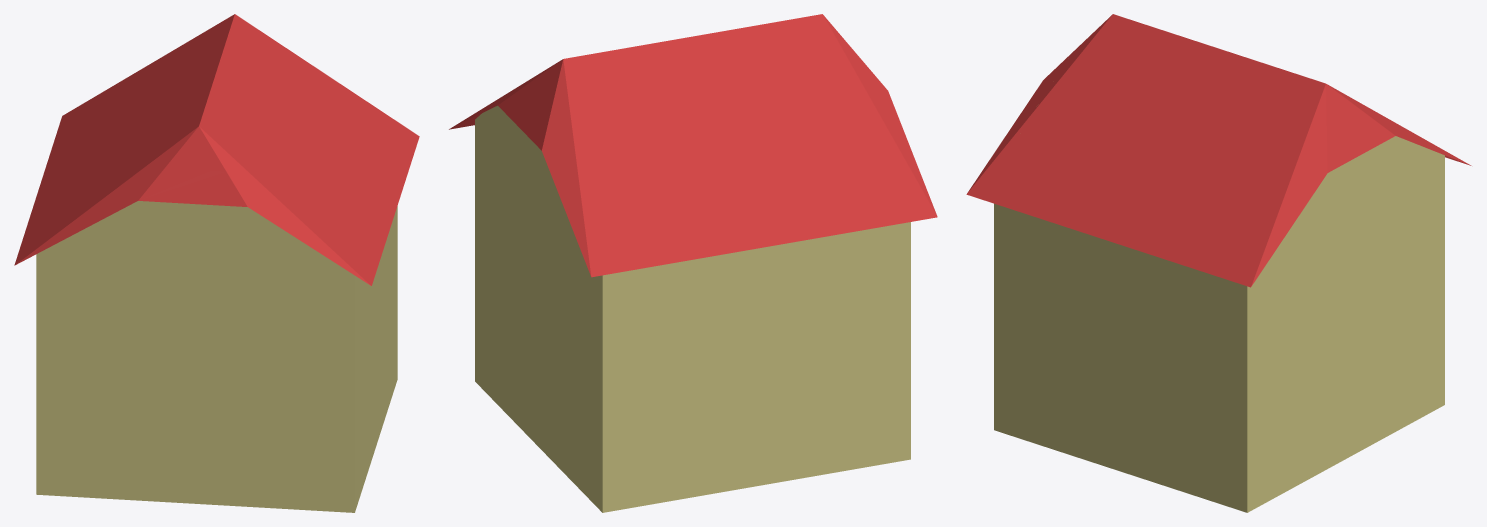
The picture shows the model from 3 angles, left to right: view 1: azimuth 30°, elevation 25°; view 2: azimuth 150°, elevation 25°; view 3: azimuth 270°, elevation 25°; orthographic projection. The views are drawn at different scales.
Parts seen in each view (by area): view 1: group_5, group_3, group_4; view 2: group_5, group_3, group_4; view 3: group_5, group_3, group_4.
Boxes of the visible parts, x1,y1,x2,y2 form: group_5: [36, 201, 397, 512]; group_3: [14, 14, 419, 265]; group_4: [66, 73, 419, 285]; group_5: [475, 105, 910, 512]; group_3: [450, 14, 937, 277]; group_4: [449, 85, 593, 276]; group_5: [994, 136, 1444, 512]; group_3: [994, 14, 1407, 287]; group_4: [966, 51, 1471, 286].
Bounding box in the file's own units: 19.25 × 19.23 × 15.46.
